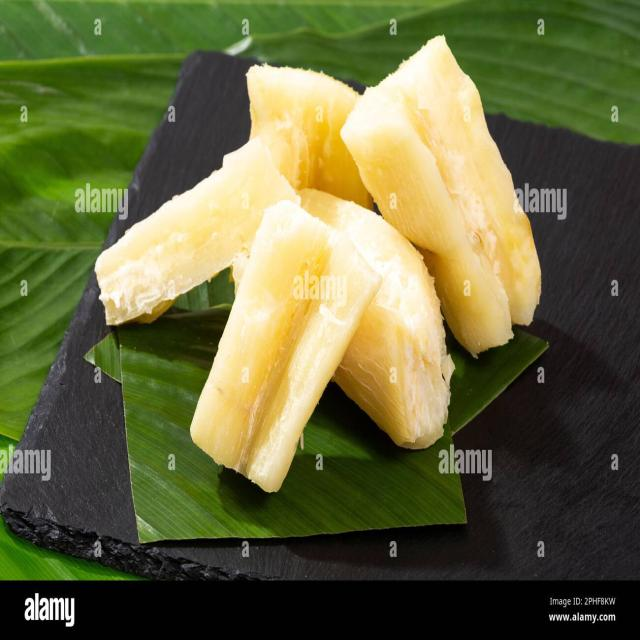yuca: (338, 38, 560, 357), (183, 203, 382, 511)
